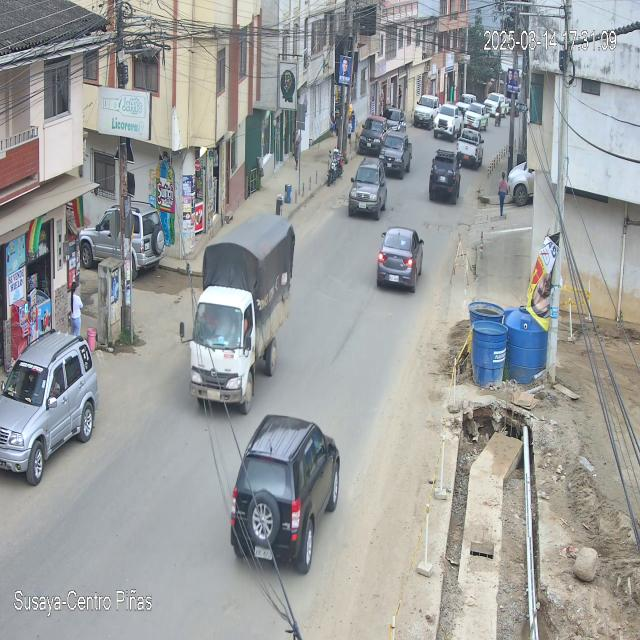SUV: (231, 416, 341, 578)
TRUCK: (192, 215, 295, 413)
